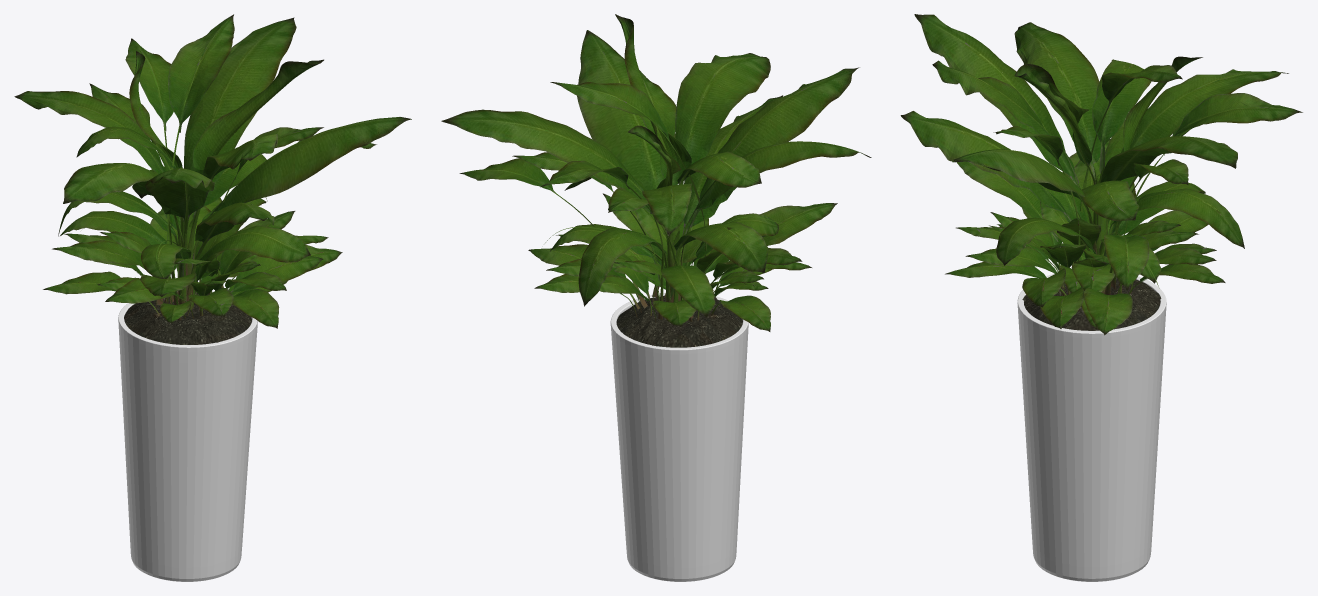
File: plant_2.glb
3 views of the same model, side by side, from view 1: azimuth 30°, elevation 25°; view 2: azimuth 150°, elevation 25°; view 3: azimuth 270°, elevation 25° (orthographic). The views are drawn at different scales.
Visible parts, largest first — view 1: mesh_1_ROOT__Component_193713_Layer0, mesh_3_ROOT__Component_193711_Layer0, mesh_2_ROOT__Component_193712_Layer0; view 2: mesh_1_ROOT__Component_193713_Layer0, mesh_3_ROOT__Component_193711_Layer0, mesh_2_ROOT__Component_193712_Layer0; view 3: mesh_1_ROOT__Component_193713_Layer0, mesh_3_ROOT__Component_193711_Layer0, mesh_2_ROOT__Component_193712_Layer0.
Part boxes in pixels (box(x1,y1,x2,y2)): mesh_1_ROOT__Component_193713_Layer0: box(14, 14, 411, 328); mesh_3_ROOT__Component_193711_Layer0: box(118, 291, 257, 581); mesh_2_ROOT__Component_193712_Layer0: box(124, 291, 251, 344); mesh_1_ROOT__Component_193713_Layer0: box(441, 14, 871, 331); mesh_3_ROOT__Component_193711_Layer0: box(610, 293, 748, 581); mesh_2_ROOT__Component_193712_Layer0: box(616, 295, 742, 347); mesh_1_ROOT__Component_193713_Layer0: box(900, 14, 1302, 335); mesh_3_ROOT__Component_193711_Layer0: box(1017, 274, 1166, 581); mesh_2_ROOT__Component_193712_Layer0: box(1022, 277, 1161, 330).
Size of the model in its own units: 896 by 1172 by 799.
2 materials, 1 textured.
